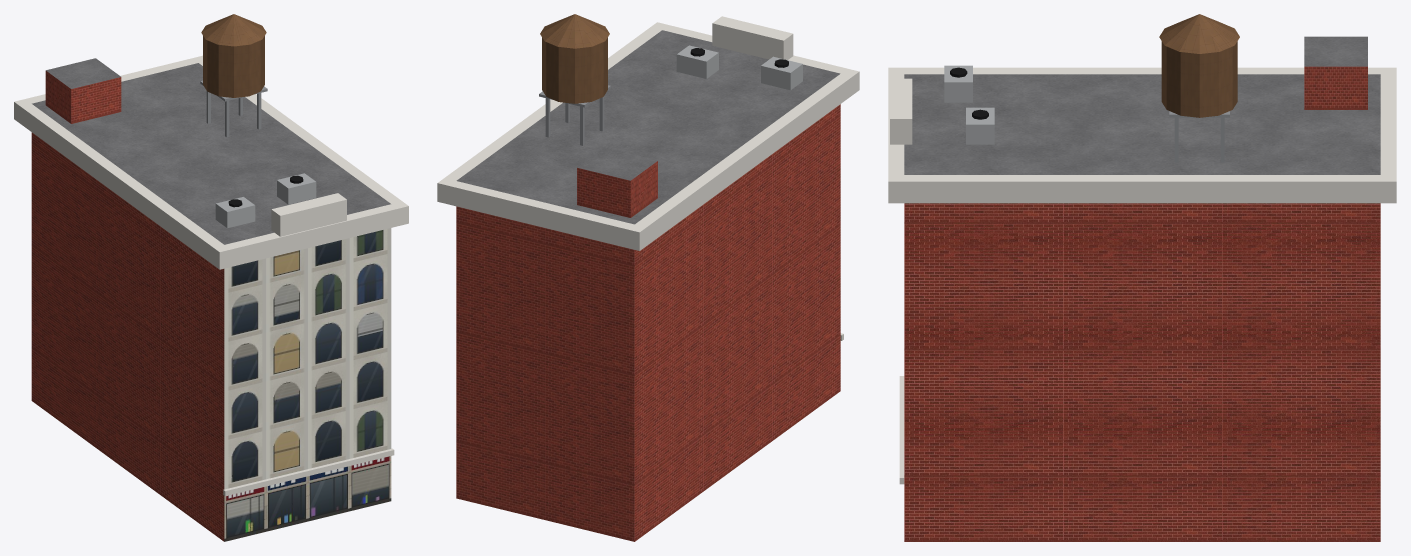
The model's file is 026_castiron_white.glb.
3 renders of one model, left to right at view 1: azimuth 30°, elevation 25°; view 2: azimuth 150°, elevation 25°; view 3: azimuth 270°, elevation 25°, orthographic. The views are drawn at different scales.
Parts seen in each view (by area): view 1: 026_castiron_white; view 2: 026_castiron_white; view 3: 026_castiron_white.
Boxes of the visible parts, x1=… form: 026_castiron_white: x1=14, y1=14, x2=408, y2=541; 026_castiron_white: x1=437, y1=14, x2=859, y2=541; 026_castiron_white: x1=888, y1=14, x2=1396, y2=541.
Size of the model in its own units: 17 by 35.1 by 32.
Materials: 9 (5 with a texture image).
